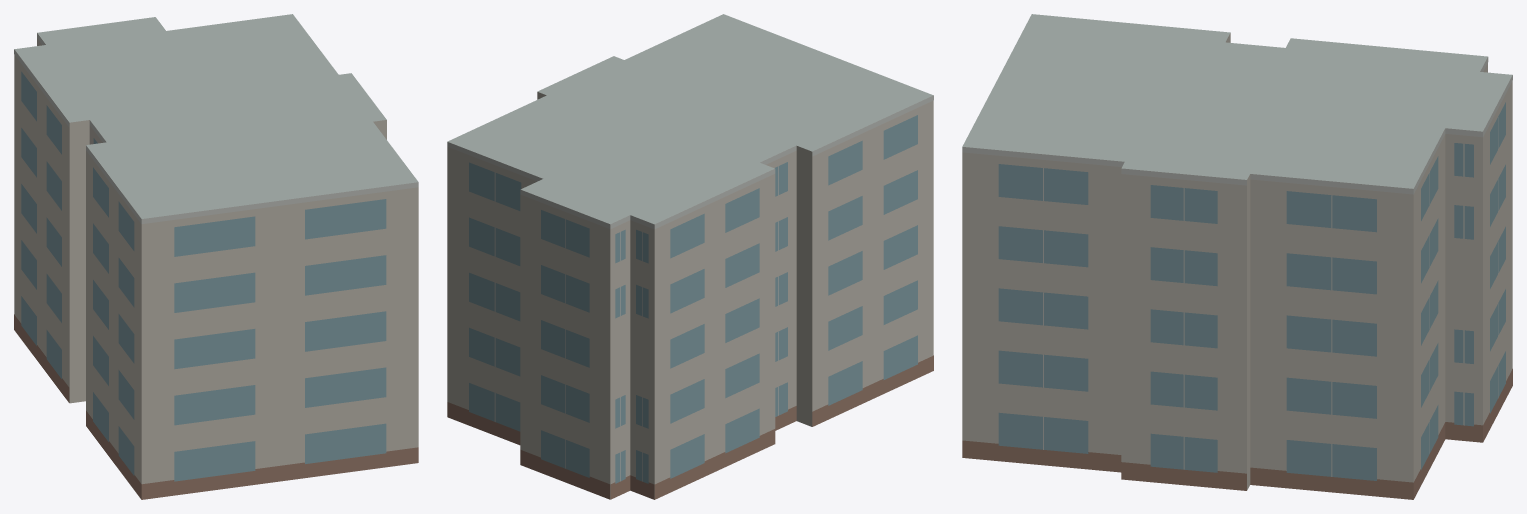
The model's file is survey-upis-32922838.glb.
The picture shows the model from 3 angles, left to right: view 1: azimuth 30°, elevation 25°; view 2: azimuth 150°, elevation 25°; view 3: azimuth 270°, elevation 25°; orthographic projection. The views are drawn at different scales.
Visible parts, largest first — view 1: survey-upis-32922838.tmp; view 2: survey-upis-32922838.tmp; view 3: survey-upis-32922838.tmp.
Boxes of the visible parts, x1,y1,x2,y2 form: survey-upis-32922838.tmp: (14,14,418,499); survey-upis-32922838.tmp: (447,14,933,499); survey-upis-32922838.tmp: (962,14,1512,499).
Bounding box in the file's own units: 16.17 × 13.4 × 21.51.
